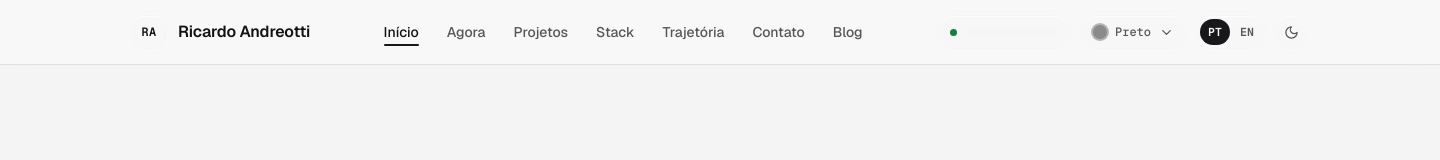
Test: Navigation › switches the language from the PT | EN pill
What coordinates should you click on to do the following:
click the button "EN"
I would click on:
 (1247, 32)
Its box is x1=1232 y1=19 x2=1262 y2=45.
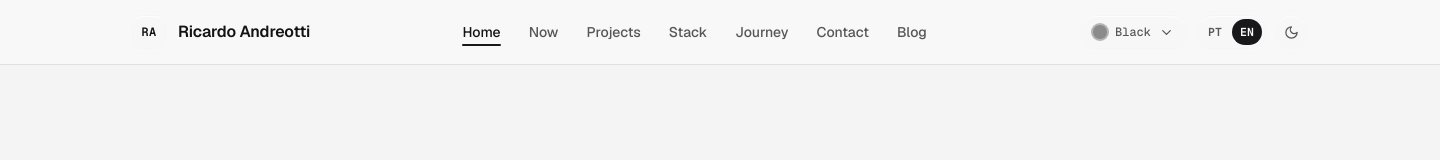
Result: the button "Projects" is shown at x1=573 y1=14 x2=654 y2=50
